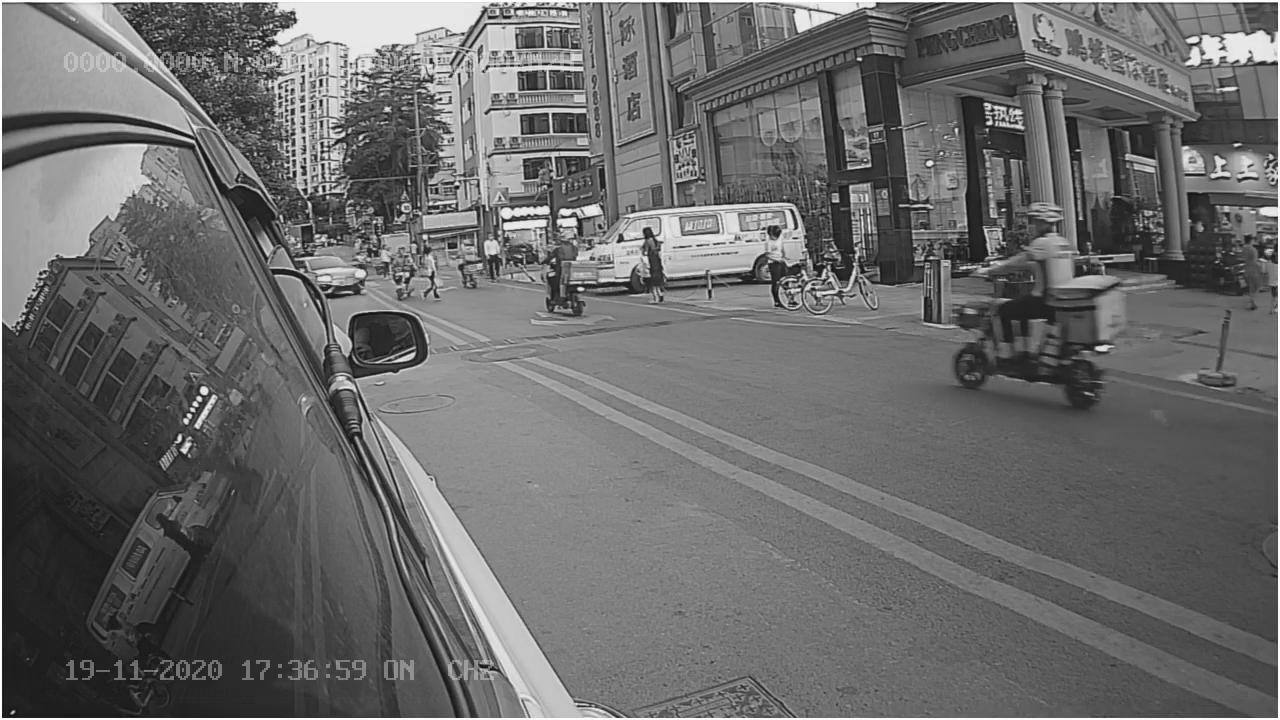person: (996, 200, 1077, 277)
